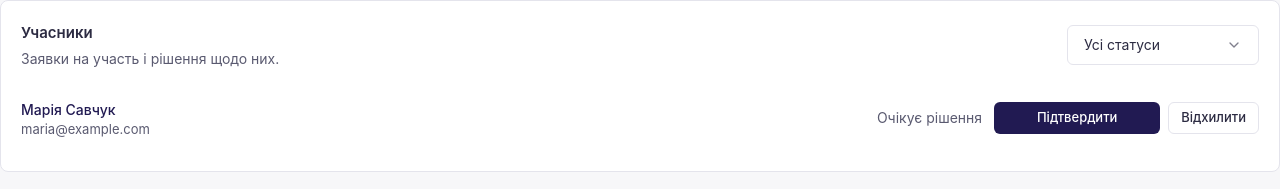
Scenario: EventParticipantsCard › shows pending participants and approves through the event API
Check: the link "Марія Савчук" is shown, box [21,101,116,118]
Check: the text "Очікує рішення" is shown, box [877,108,982,128]
Click the button named "Підтвердити Марія Савчук" at x=1077, y=118, box [994,102,1160,134]
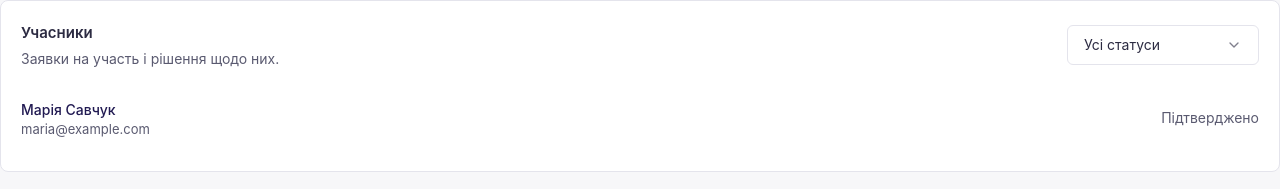
Check: the text "Підтверджено" is shown, box [1161,108,1259,128]
